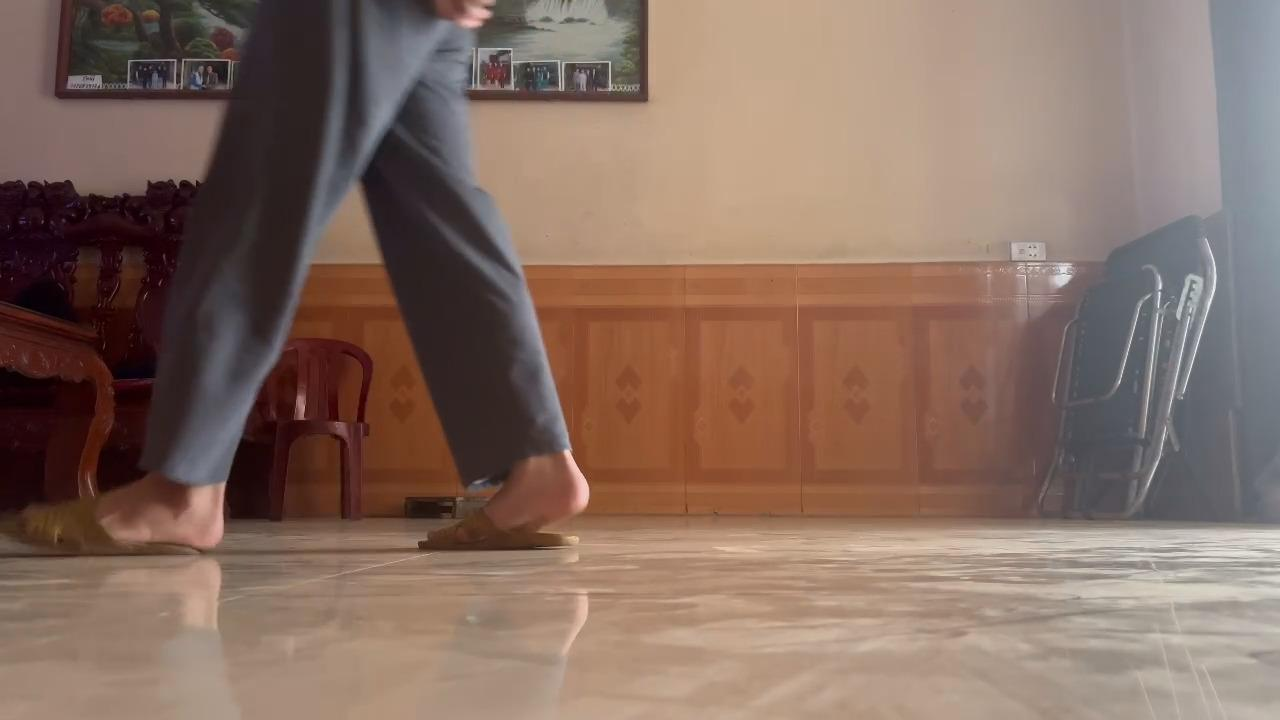no-boot: (0, 479, 243, 568), (406, 462, 605, 567)
